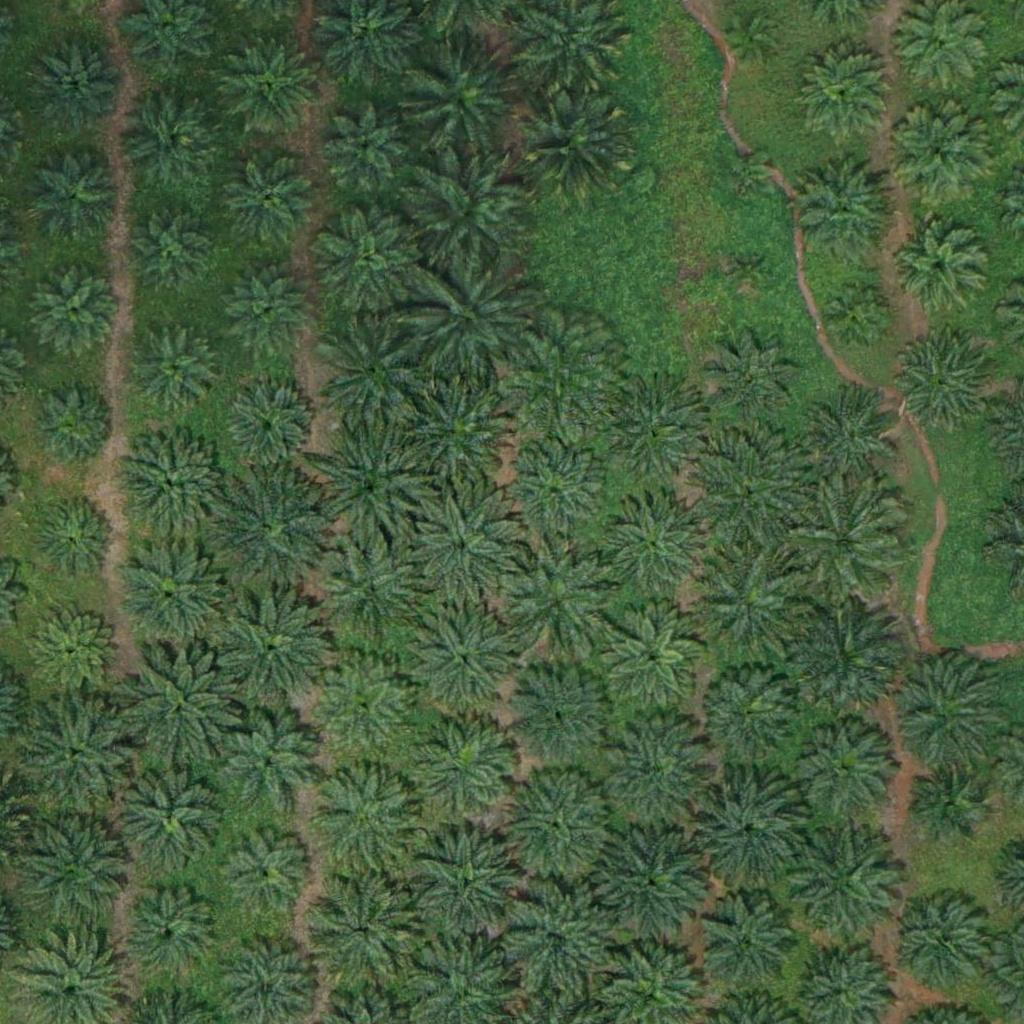Kelapa_Sawit: (504, 321, 617, 435), (416, 153, 529, 267), (416, 260, 529, 374), (785, 484, 898, 598), (889, 658, 1002, 772), (113, 426, 226, 539), (114, 542, 227, 655), (217, 475, 330, 588), (215, 593, 328, 706), (311, 765, 424, 878), (303, 874, 416, 987), (396, 375, 509, 488), (499, 437, 612, 550), (503, 544, 616, 657), (500, 658, 613, 771), (603, 712, 716, 825), (595, 822, 708, 935), (401, 37, 513, 151), (22, 698, 134, 812), (19, 810, 131, 924), (116, 878, 228, 992), (594, 369, 706, 483), (598, 484, 710, 598), (693, 436, 805, 550), (690, 544, 802, 658), (790, 597, 902, 711), (787, 712, 899, 826), (519, 81, 631, 194), (695, 324, 807, 437), (312, 204, 424, 317), (319, 318, 431, 431), (123, 648, 235, 761), (117, 761, 229, 874), (314, 433, 426, 546), (316, 535, 428, 648), (405, 494, 517, 607), (406, 605, 518, 718), (411, 829, 523, 942), (499, 772, 611, 885), (500, 884, 612, 997), (691, 765, 803, 878), (789, 830, 901, 943), (886, 105, 986, 206), (889, 213, 989, 314), (891, 331, 991, 432), (793, 38, 893, 139), (798, 162, 898, 263), (220, 145, 320, 246), (121, 90, 221, 191), (25, 33, 125, 134), (25, 145, 125, 246), (216, 710, 316, 811), (312, 656, 412, 757), (412, 716, 512, 817), (602, 603, 702, 704), (697, 894, 797, 995), (797, 390, 897, 491), (217, 37, 317, 137), (698, 660, 798, 760), (887, 893, 987, 993), (222, 266, 310, 354), (227, 383, 315, 471), (124, 208, 212, 296), (31, 493, 119, 581), (28, 607, 116, 695), (131, 325, 218, 414), (31, 265, 118, 354), (322, 101, 409, 189), (29, 381, 116, 469), (225, 829, 312, 917), (910, 762, 985, 838), (825, 285, 888, 348), (729, 14, 779, 65), (731, 159, 768, 197), (727, 250, 764, 288)
